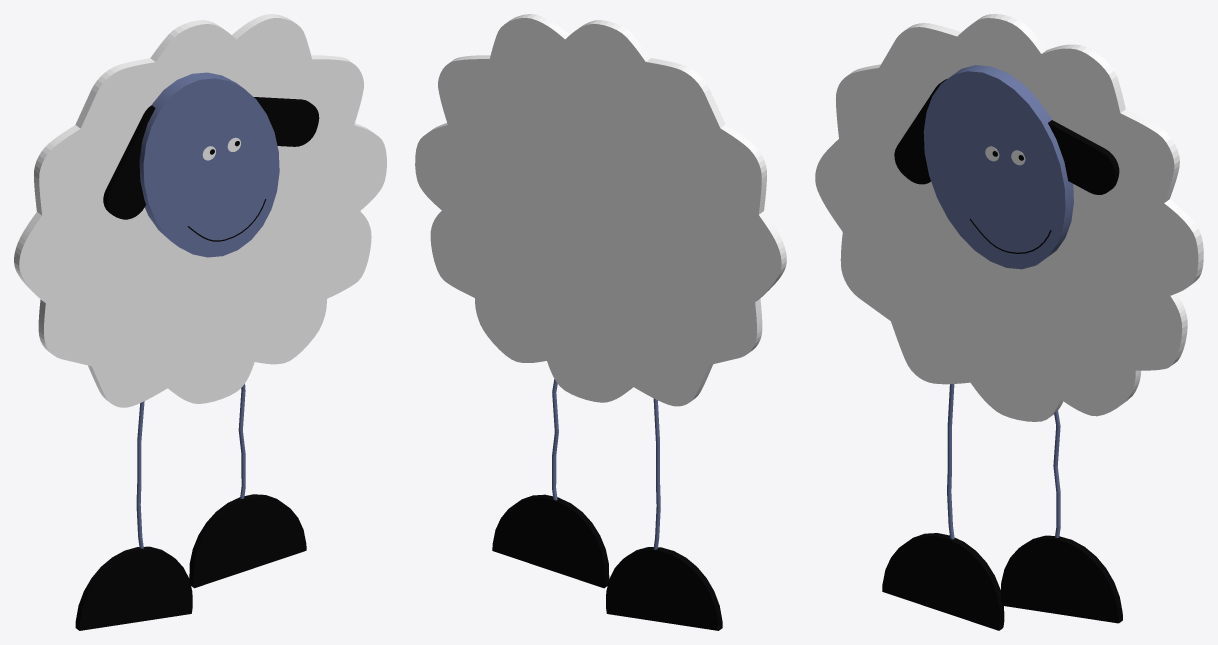
File: Sheep.fbx
3 views of the same model, side by side, from view 1: azimuth 30°, elevation 25°; view 2: azimuth 150°, elevation 25°; view 3: azimuth 330°, elevation 25° (orthographic). The views are drawn at different scales.
Parts seen in each view (by area): view 1: Sheep; view 2: Sheep; view 3: Sheep.
Boxes of the visible parts, x1,y1,x2,y2 form: Sheep: (14, 14, 386, 630); Sheep: (415, 14, 786, 630); Sheep: (815, 14, 1203, 630).
Size of the model in its own units: 19.98 by 30.6 by 1.53.
1 material, 1 textured.
